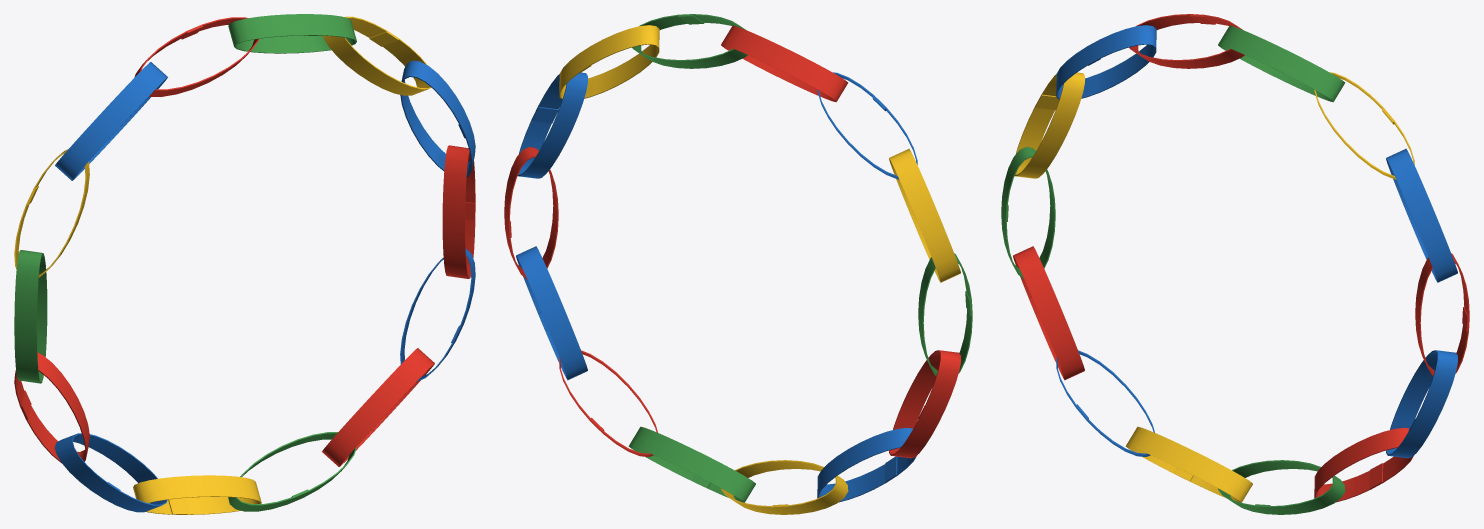
File: landing-ring.fbx
The picture shows the model from 3 angles, left to right: view 1: azimuth 30°, elevation 25°; view 2: azimuth 150°, elevation 25°; view 3: azimuth 330°, elevation 25°; orthographic projection. The views are drawn at different scales.
Visible parts, largest first — view 1: landing-ring; view 2: landing-ring; view 3: landing-ring.
Part boxes in pixels (x1=…): landing-ring: x1=14, y1=14, x2=475, y2=514; landing-ring: x1=504, y1=14, x2=972, y2=514; landing-ring: x1=1001, y1=14, x2=1469, y2=514.
Size of the model in its own units: 7400 by 7400 by 800.
Materials: 1 (1 with a texture image).
